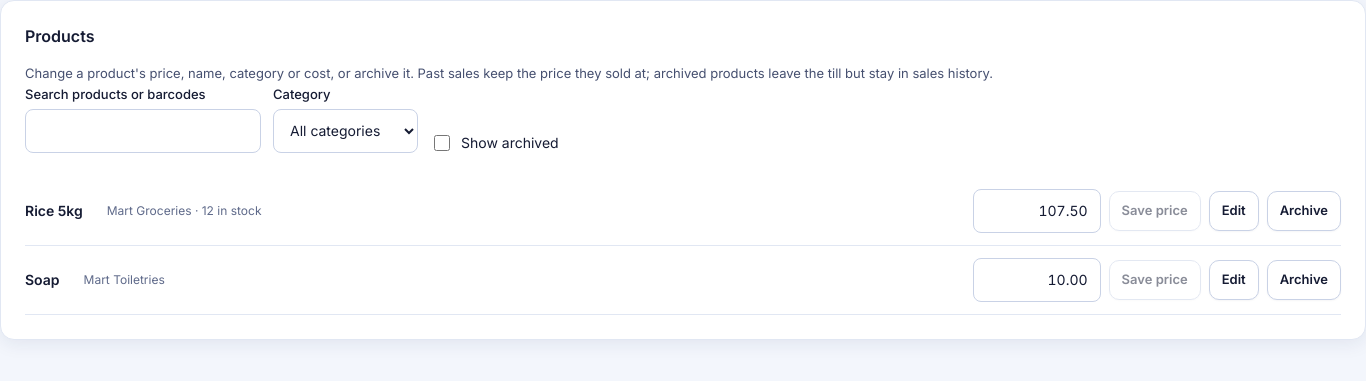
Scenario: <ProductsCard> › does not send a malformed price
The image size is (1366, 381).
Replace the text in the field named "Price for Rice 5kg" with "12.345" at (1037, 211), box [973, 189, 1101, 233]
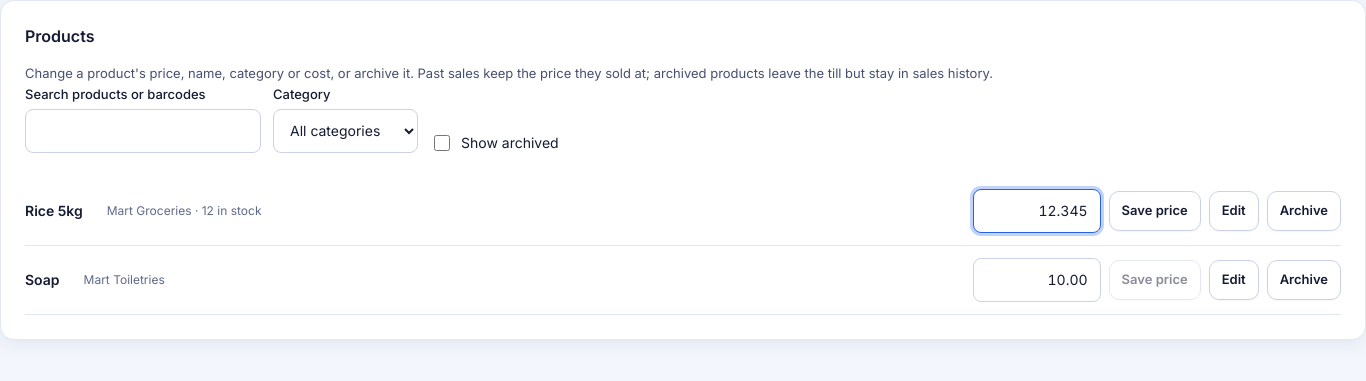
Click the button with aria-label "Save price for Rice 5kg" at (1155, 211), box [1109, 191, 1201, 231]
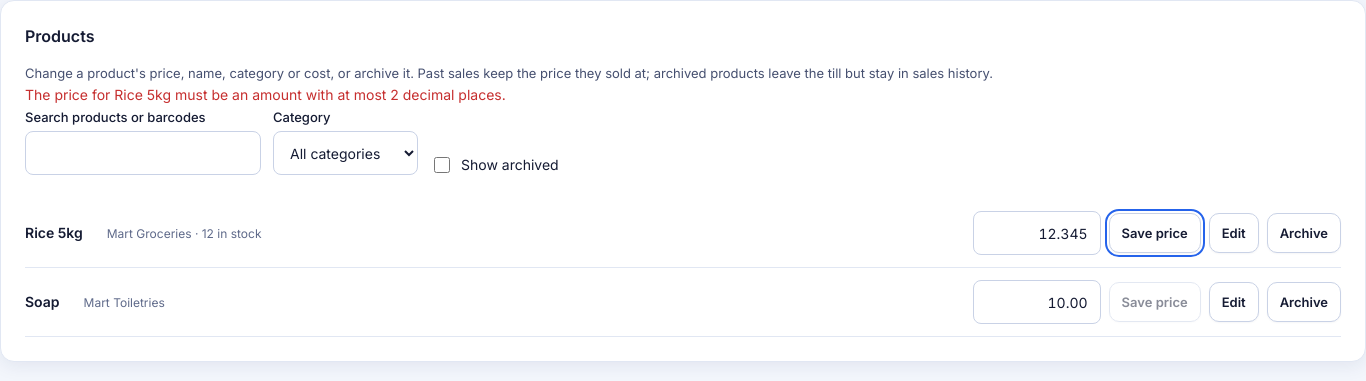
Expected: the message shows "2 decimal places", [25, 86, 506, 103]
